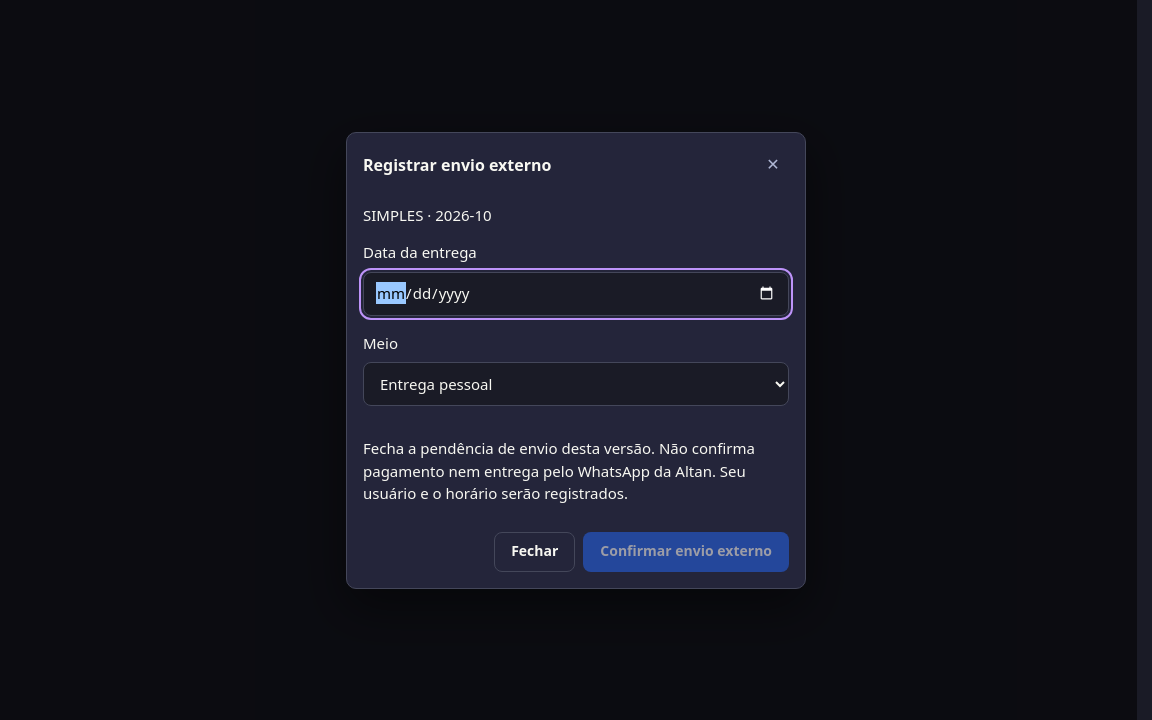
Scenario: consulta não registra; confirmação leva data/meio/revisão e atualiza depois de salvar
The width and height of the screenshot is (1152, 720).
Type "2026-10-21" into the date field labelled "Data da entrega". click: (576, 294)
box: [363,272,789,316]
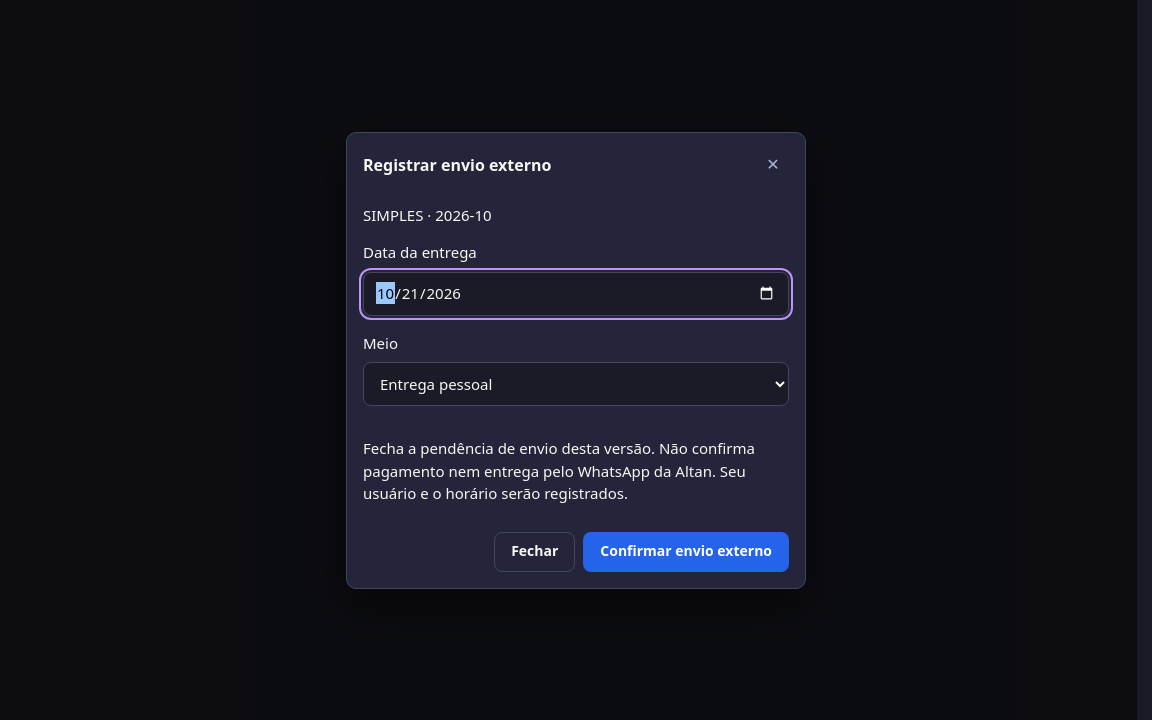
Click the button "Confirmar envio externo". click: (686, 552)
box: [583,532,789,572]
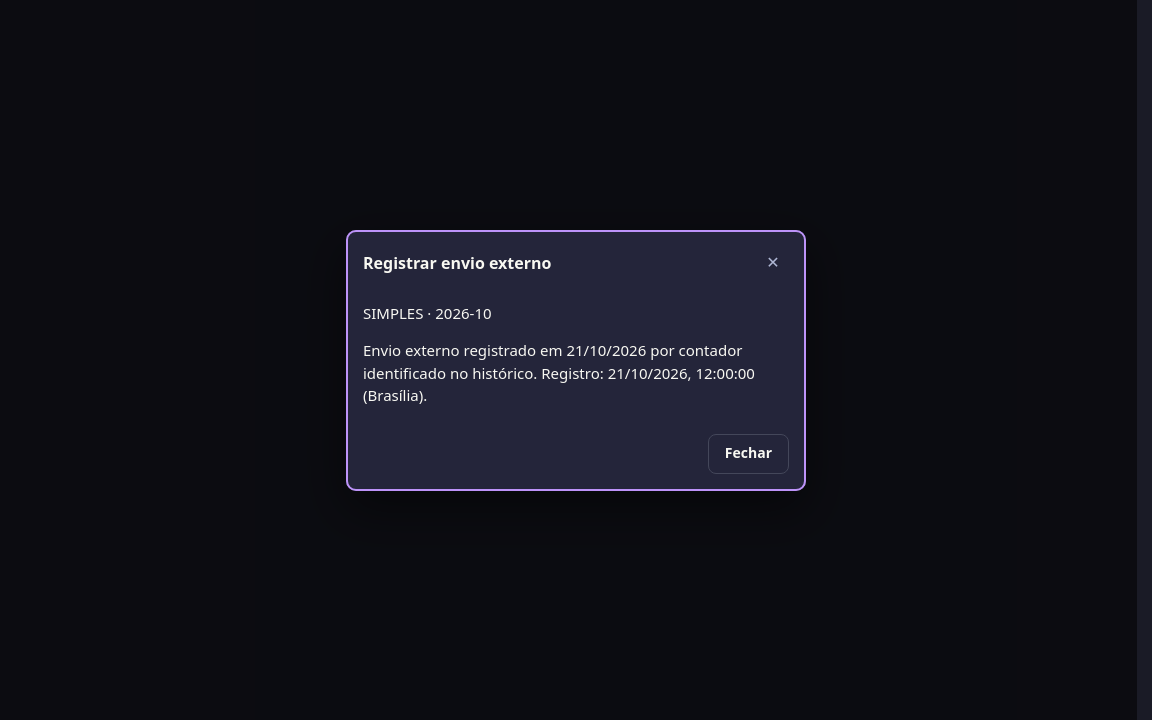
Expected: the message shows "Envio externo registrado", [363,340,566,360]
